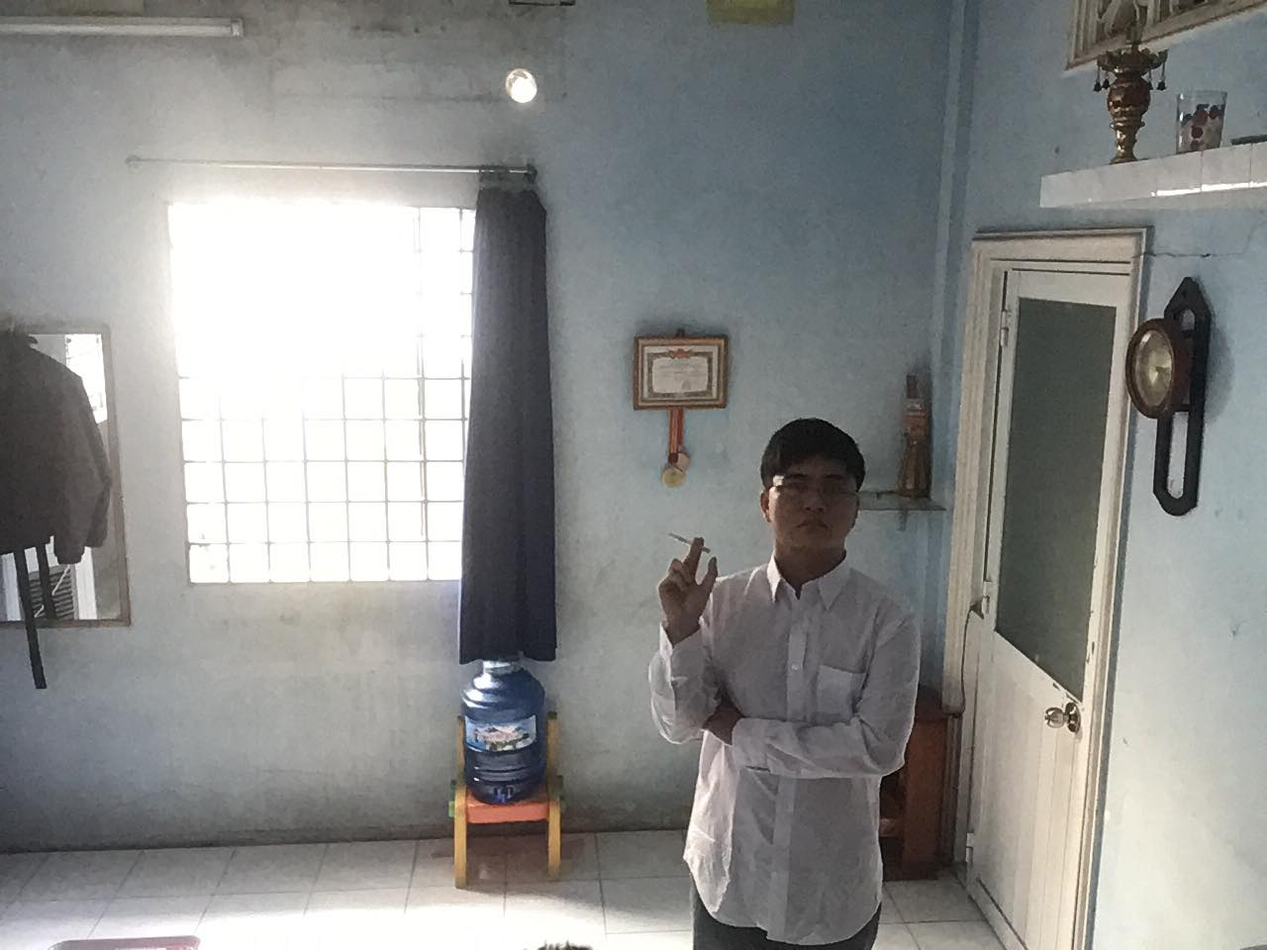cigarette: (659, 522, 716, 557)
person: (622, 410, 955, 950)
